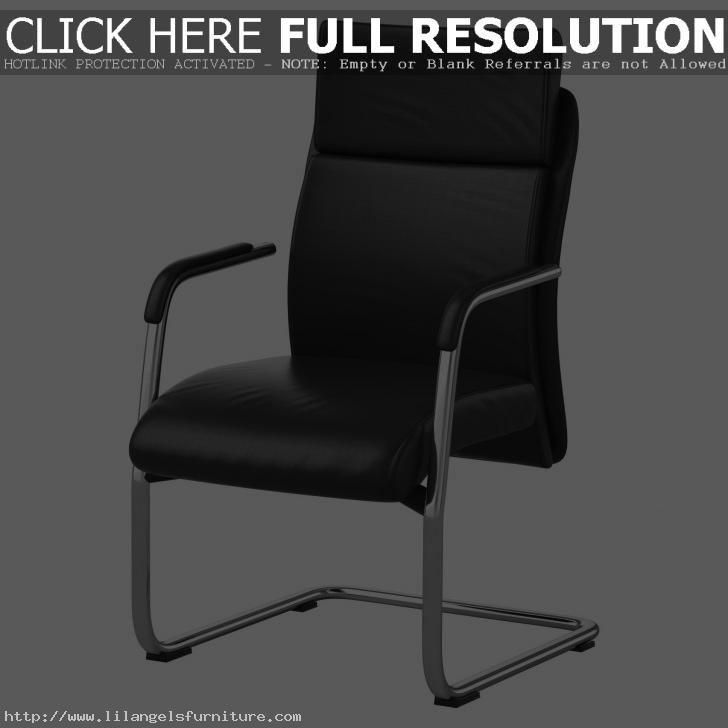chairs: (125, 24, 604, 718)
